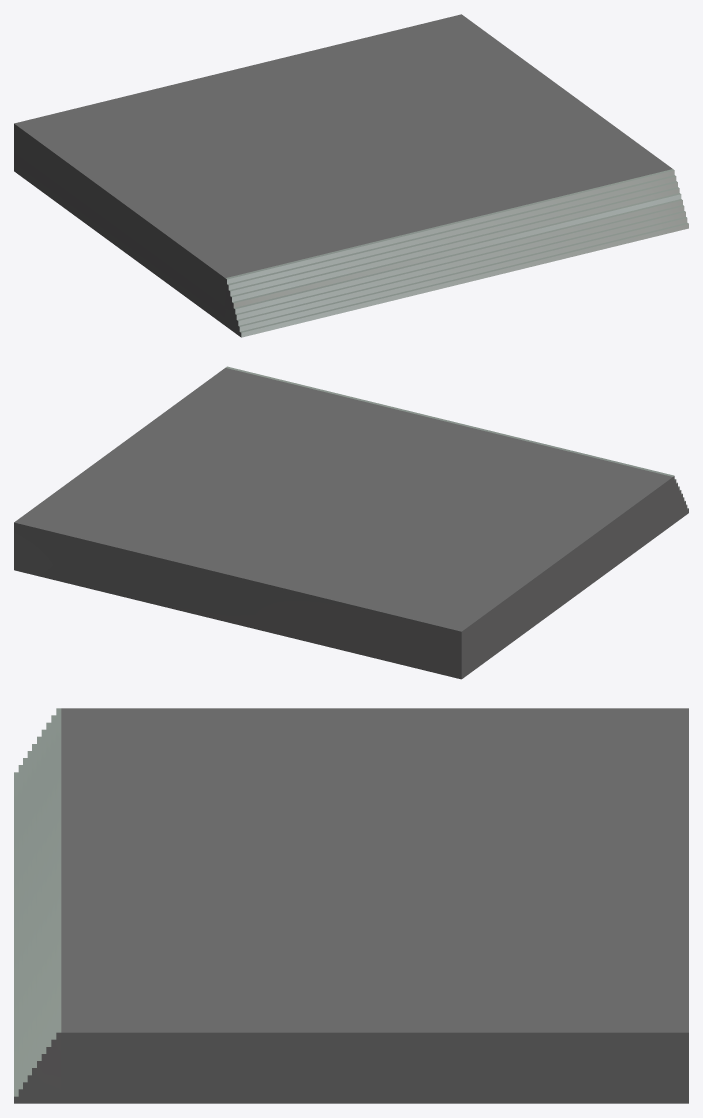
The picture shows the model from 3 angles, top to bottom: view 1: azimuth 30°, elevation 25°; view 2: azimuth 150°, elevation 25°; view 3: azimuth 270°, elevation 25°; orthographic projection. The views are drawn at different scales.
Parts seen in each view (by area): view 1: block_04; view 2: block_04; view 3: block_04.
Boxes of the visible parts, x1,y1,x2,y2 form: block_04: (14,14,688,337); block_04: (14,366,688,679); block_04: (14,708,688,1103).
Size of the model in its own units: 7.68 by 0.784 by 6.76.
Materials: 1 (1 with a texture image).
